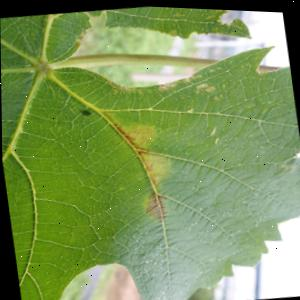Folha: (0, 0, 300, 300), (97, 3, 277, 55)
Fungo: (108, 108, 163, 152), (133, 144, 181, 186), (142, 188, 169, 222), (109, 78, 153, 97), (155, 78, 187, 92), (193, 79, 220, 93), (180, 70, 209, 82), (205, 61, 228, 72), (81, 106, 93, 116)
